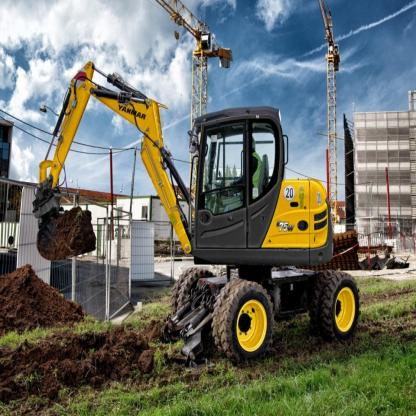excavator: (29, 55, 390, 371)
